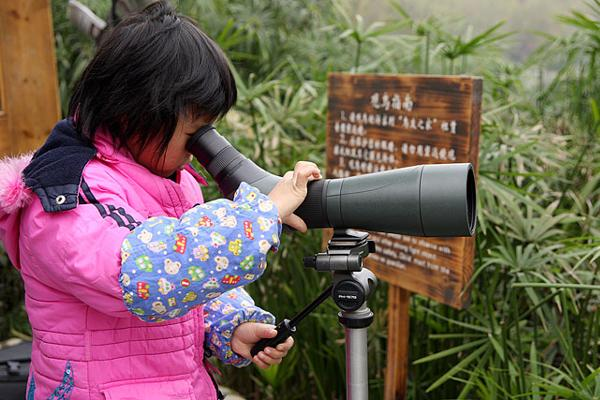person: (9, 9, 297, 400)
